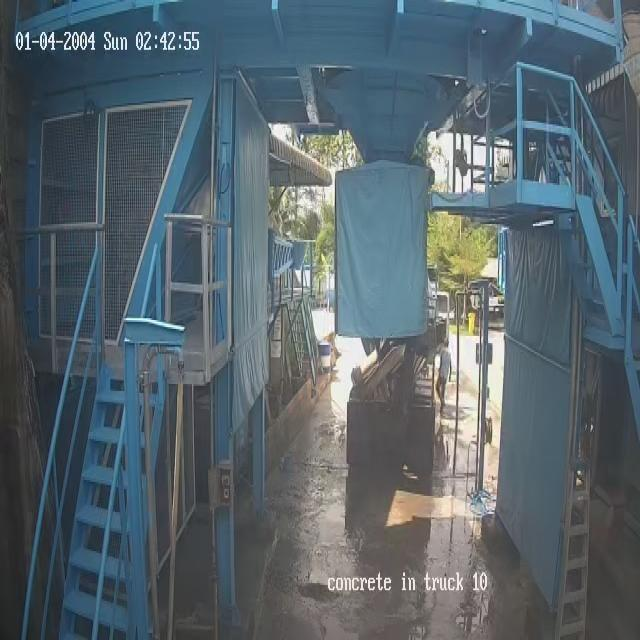cement_mixer_truck: (346, 267, 454, 482)
